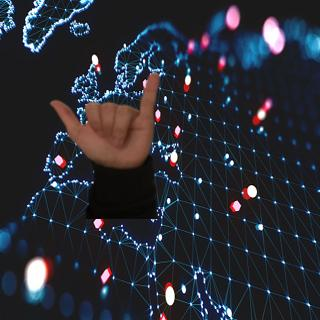HAVE: (42, 69, 163, 172)
